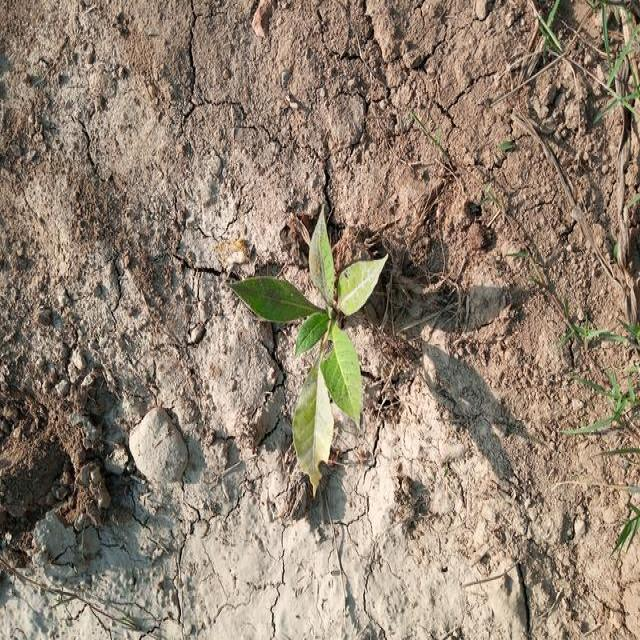crop: (244, 244, 379, 477)
